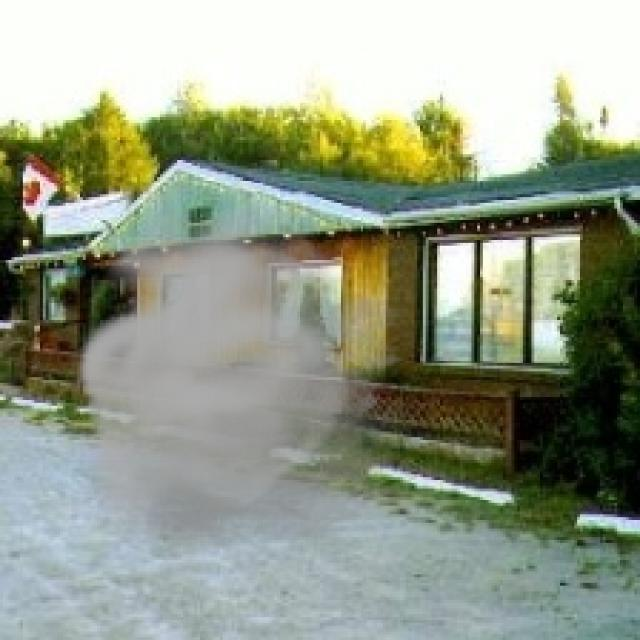smoke: (71, 206, 446, 568)
